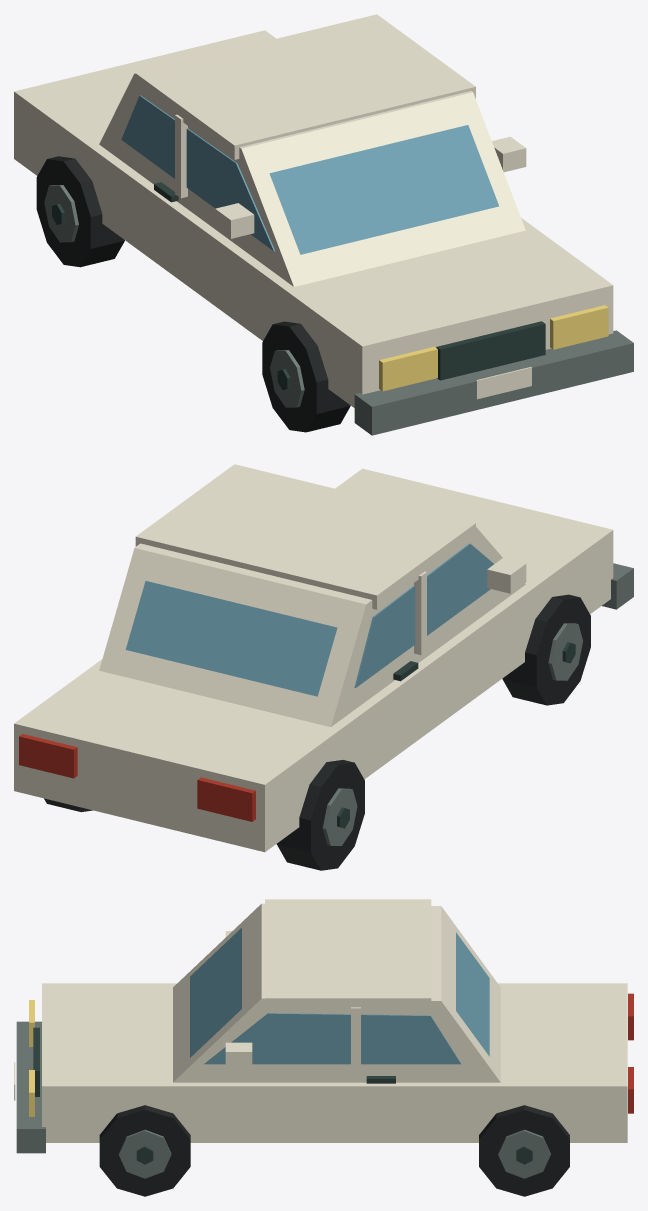
File: DisplayCar.obj
The picture shows the model from 3 angles, top to bottom: view 1: azimuth 30°, elevation 25°; view 2: azimuth 150°, elevation 25°; view 3: azimuth 270°, elevation 25°; orthographic projection. The views are drawn at different scales.
Parts seen in each view (by area): view 1: DisplayCar; view 2: DisplayCar; view 3: DisplayCar.
Boxes of the visible parts, <box> form: DisplayCar: <box>14,14,633,435</box>; DisplayCar: <box>14,464,633,870</box>; DisplayCar: <box>14,899,633,1196</box>.
Bounding box in the file's own units: 2.15 × 1.59 × 4.66.
